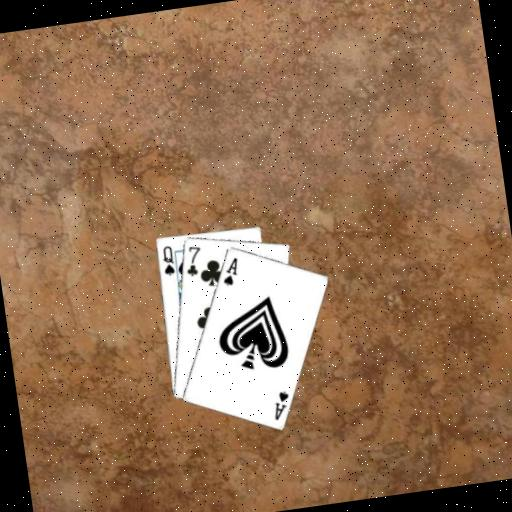7C: (180, 242, 206, 279)
AS: (268, 387, 294, 422), (216, 254, 242, 288)
QS: (157, 242, 177, 278)
